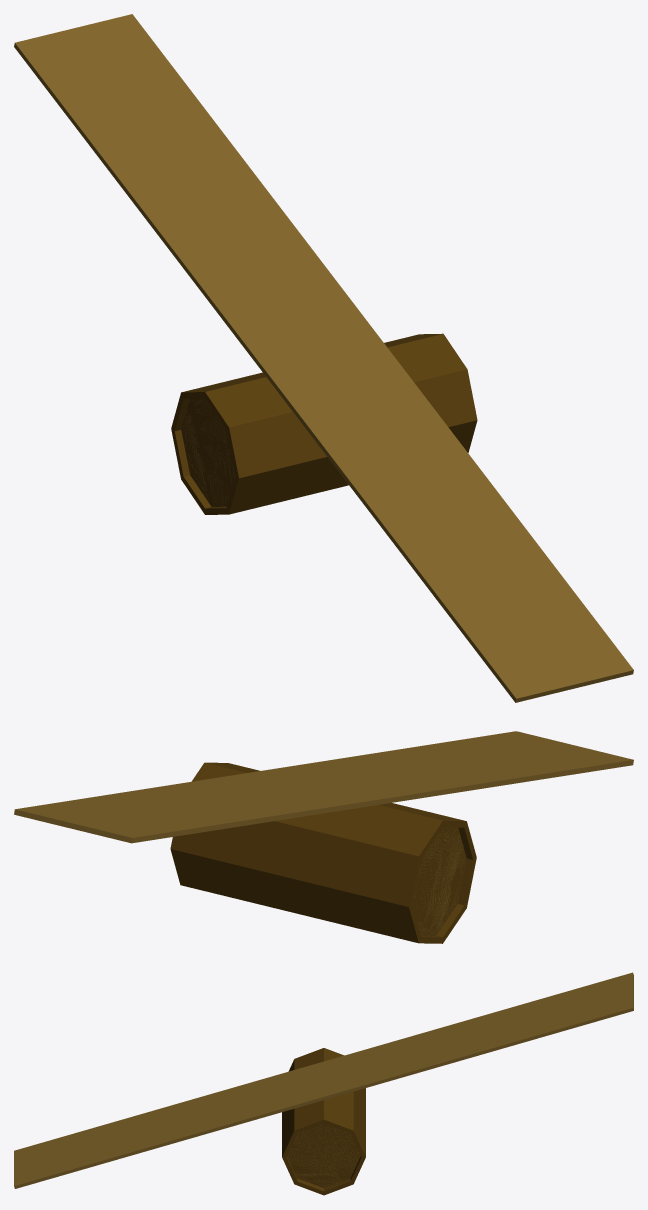
Rendered from woodpendule.fbx.
The picture shows the model from 3 angles, top to bottom: view 1: azimuth 30°, elevation 25°; view 2: azimuth 150°, elevation 25°; view 3: azimuth 270°, elevation 25°; orthographic projection. The views are drawn at different scales.
Visible parts, largest first — view 1: plank, log; view 2: log, plank; view 3: plank, log.
Boxes of the visible parts, box(x1,y1,x2,y2) form: plank: box(14, 14, 633, 702); log: box(171, 333, 477, 514); log: box(170, 762, 476, 943); plank: box(14, 731, 633, 843); plank: box(14, 972, 633, 1188); log: box(282, 1048, 365, 1195).
Bounding box in the file's own units: 405 × 477 × 1480.
